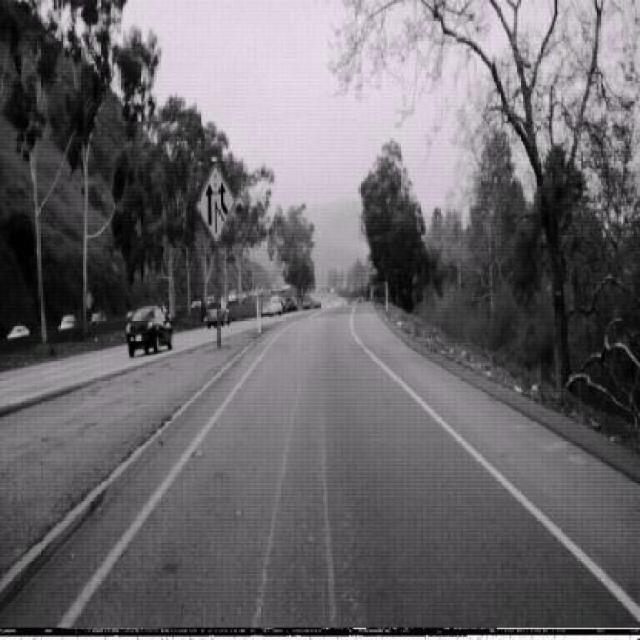addedLane: (196, 163, 236, 246)
